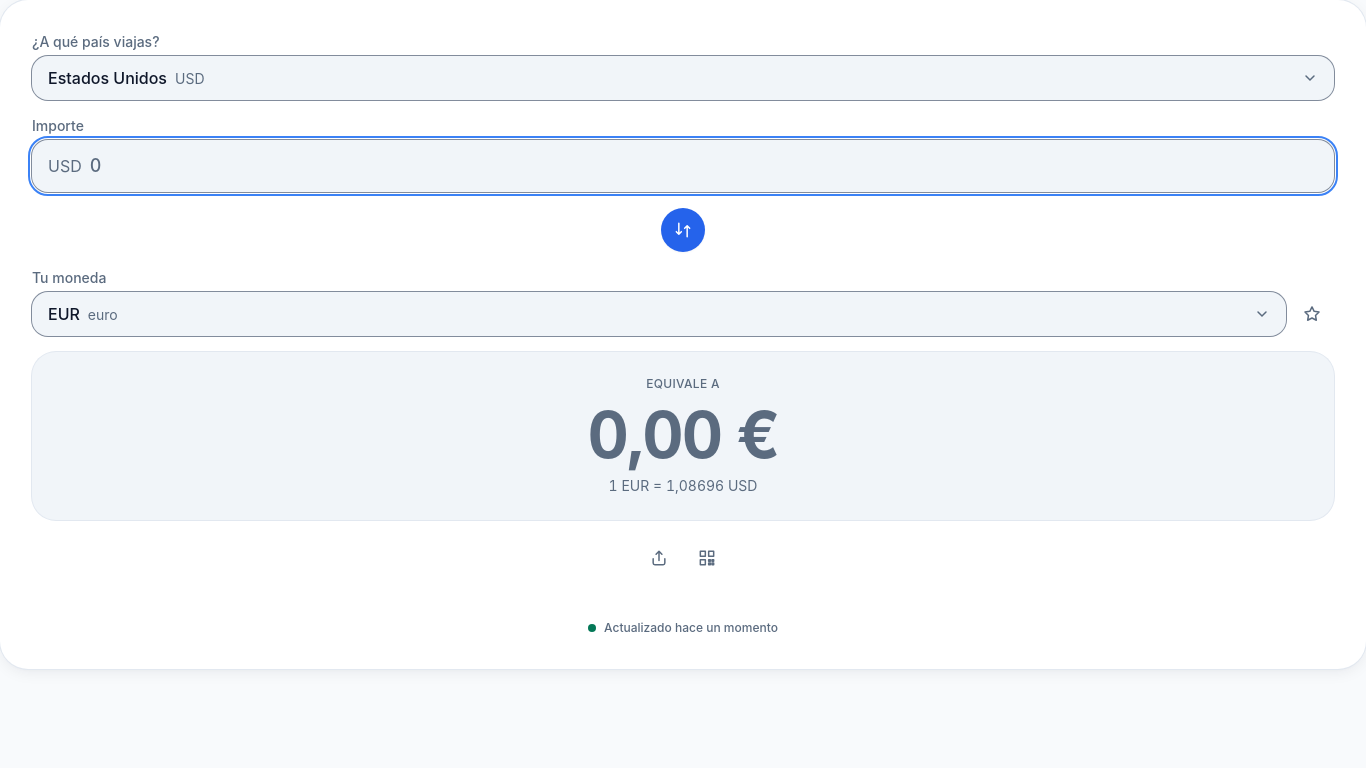
Scenario: Converter — country-first selection (ADR-014) › derives the currency from the chosen country
The image size is (1366, 768).
Step 1. Click the button named "país viajas" → click(107, 78), box x1=32 y1=56 x2=1334 y2=100
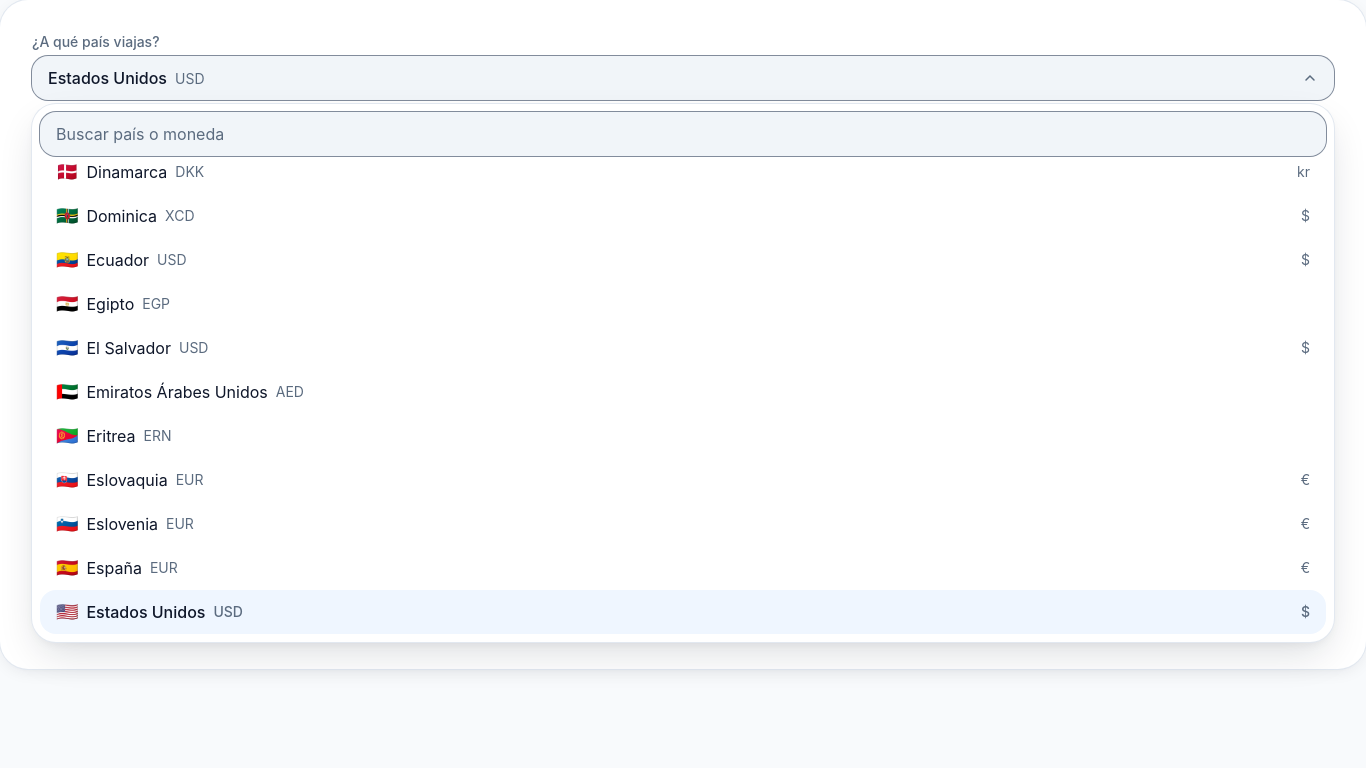
Step 2. Type "Tailandia" into the dropdown → (683, 134), box x1=40 y1=112 x2=1326 y2=156
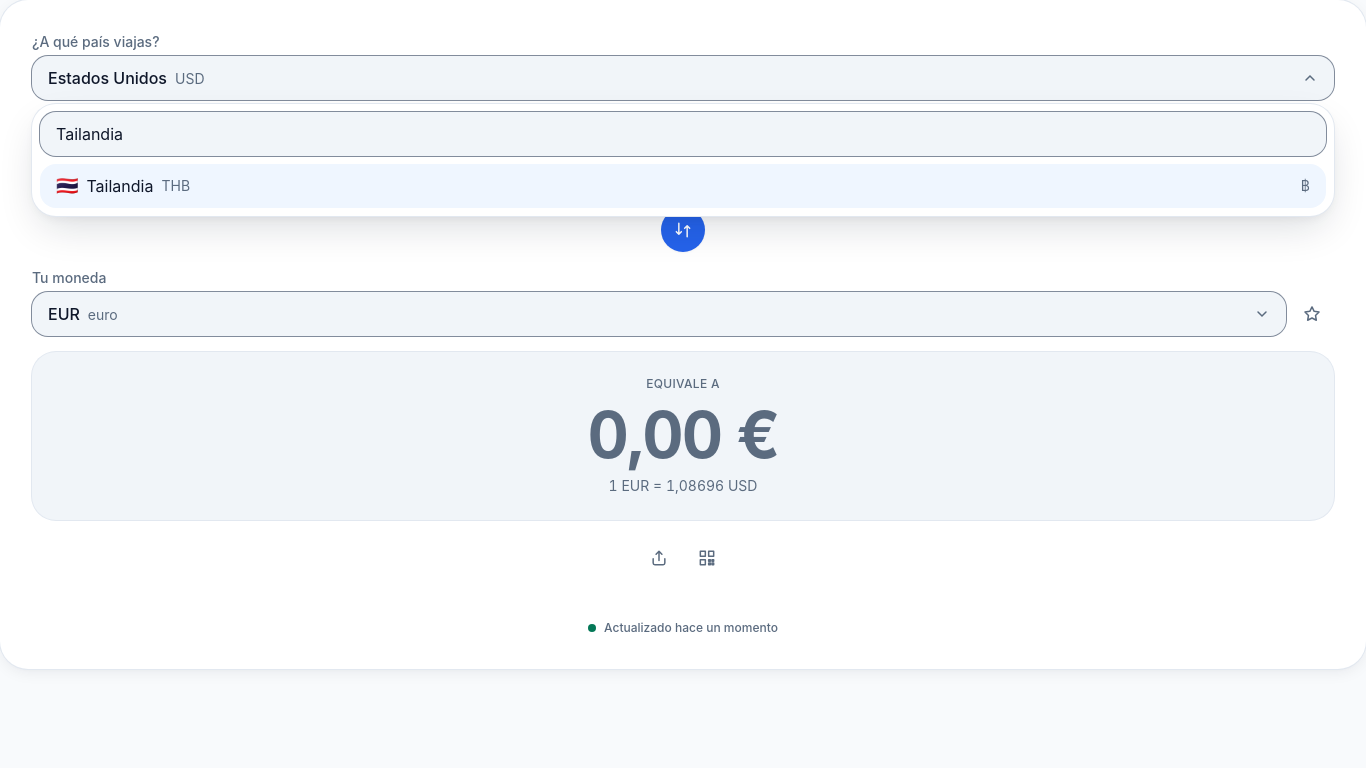
Step 3. Click the option "🇹🇭 Tailandia THB ฿" → click(120, 186), box x1=40 y1=164 x2=1326 y2=208
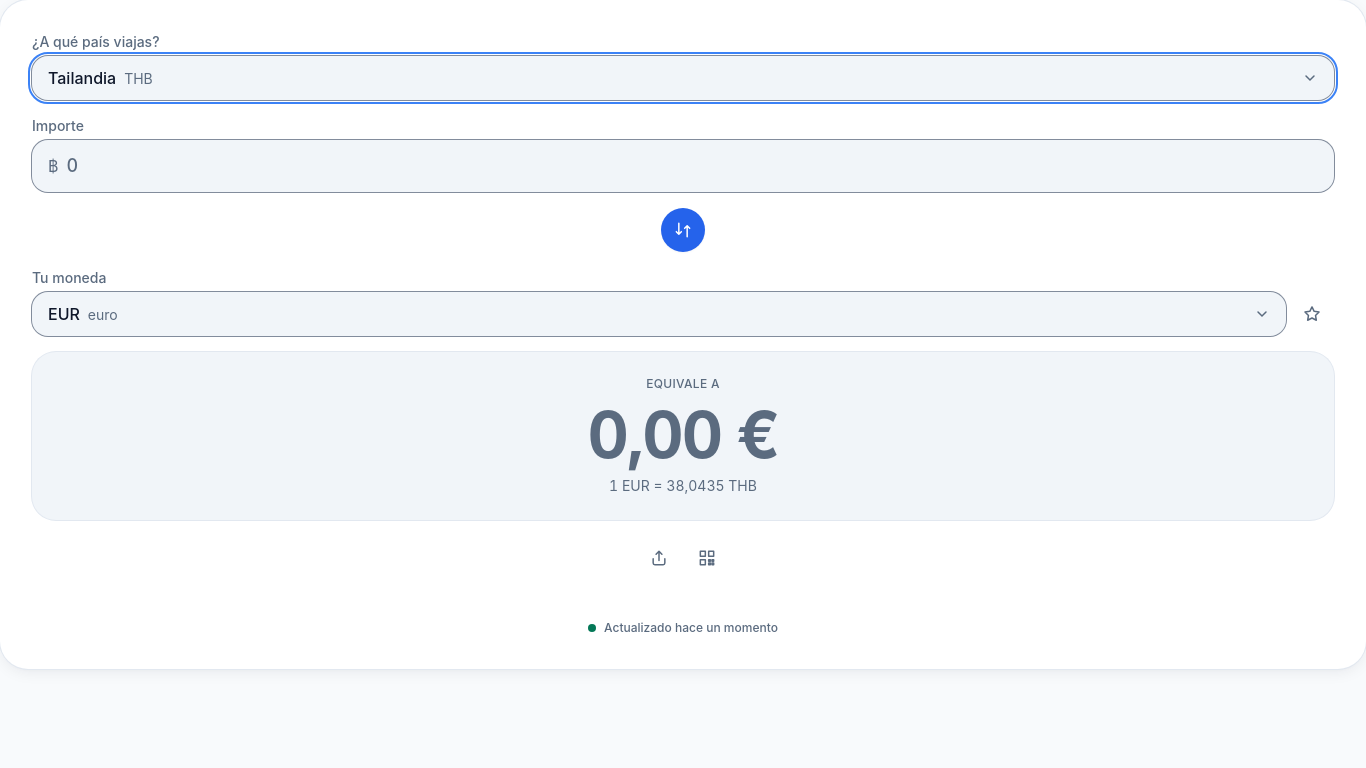
Expected: the text "1 EUR = 38,0435 THB" is shown, x1=609 y1=477 x2=757 y2=494
